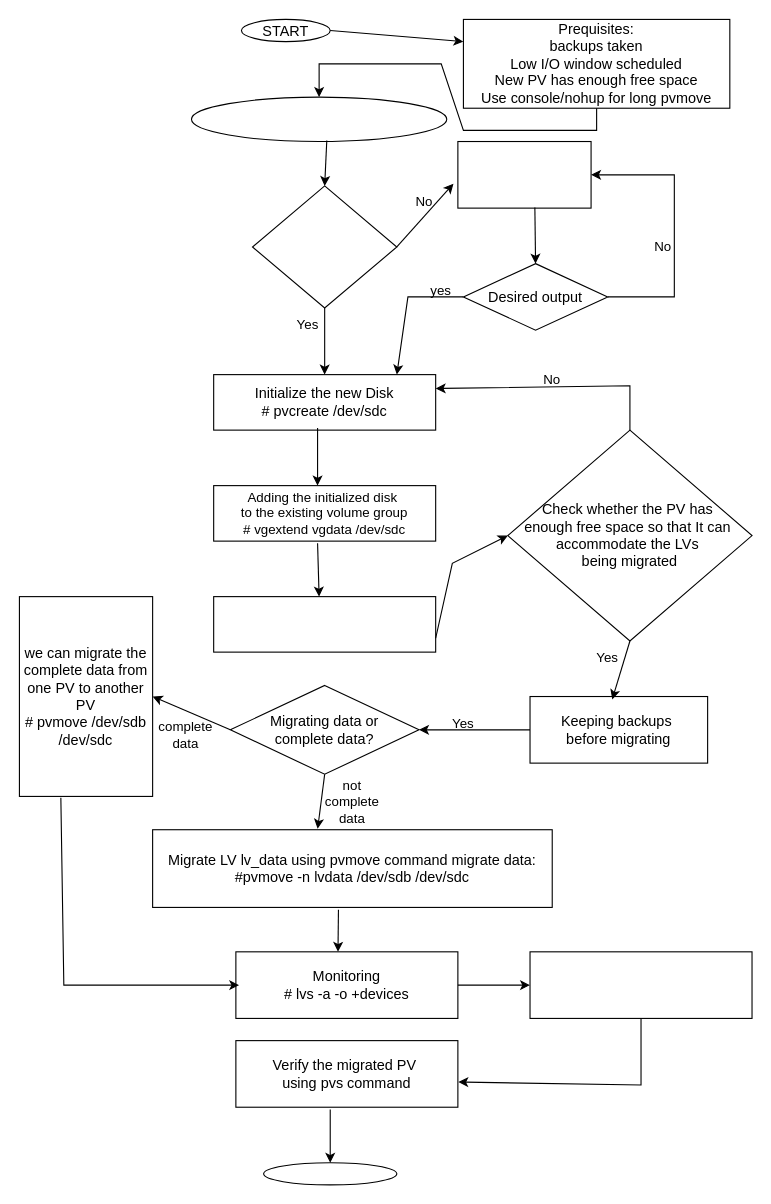
The diagram is 771 pixels wide and 1204 high, and some of its shapes have lost their labels. The shapes that lost their labels are listed below. From the top down, each one's centre as x and y in pixels, then its label:
point (318, 119): Migrate LV from one PV to another PV
point (524, 174): Scan SCSI properly
point (324, 246): Identify current volume group and PVs
point (324, 624): Verify the PV that we have added # pvs
point (640, 984): Removing old PV from PV group vgreduce vgdata /dev/sdb
point (330, 1173): END
